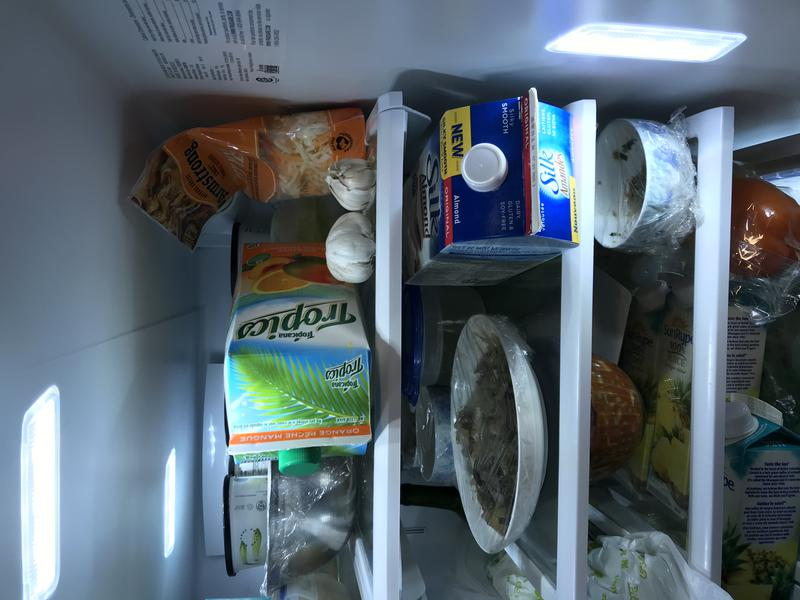garlic: (313, 210, 384, 286), (322, 153, 380, 212)
